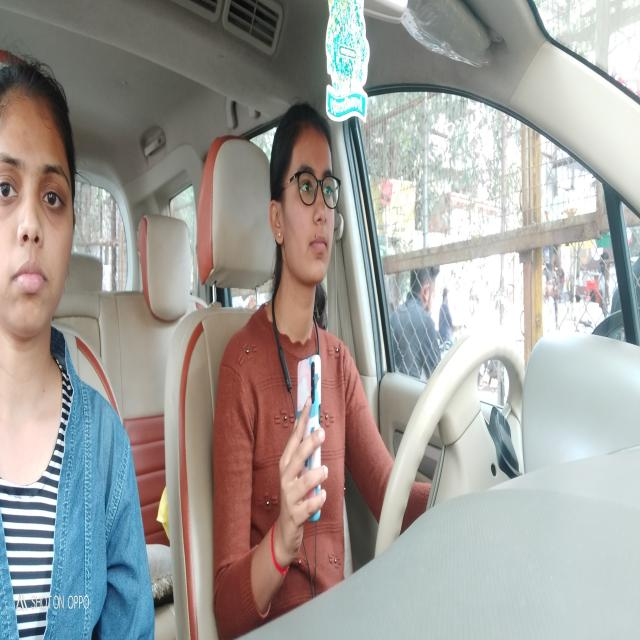mobile: (280, 356, 338, 527)
person: (0, 55, 79, 356), (267, 93, 350, 325)
